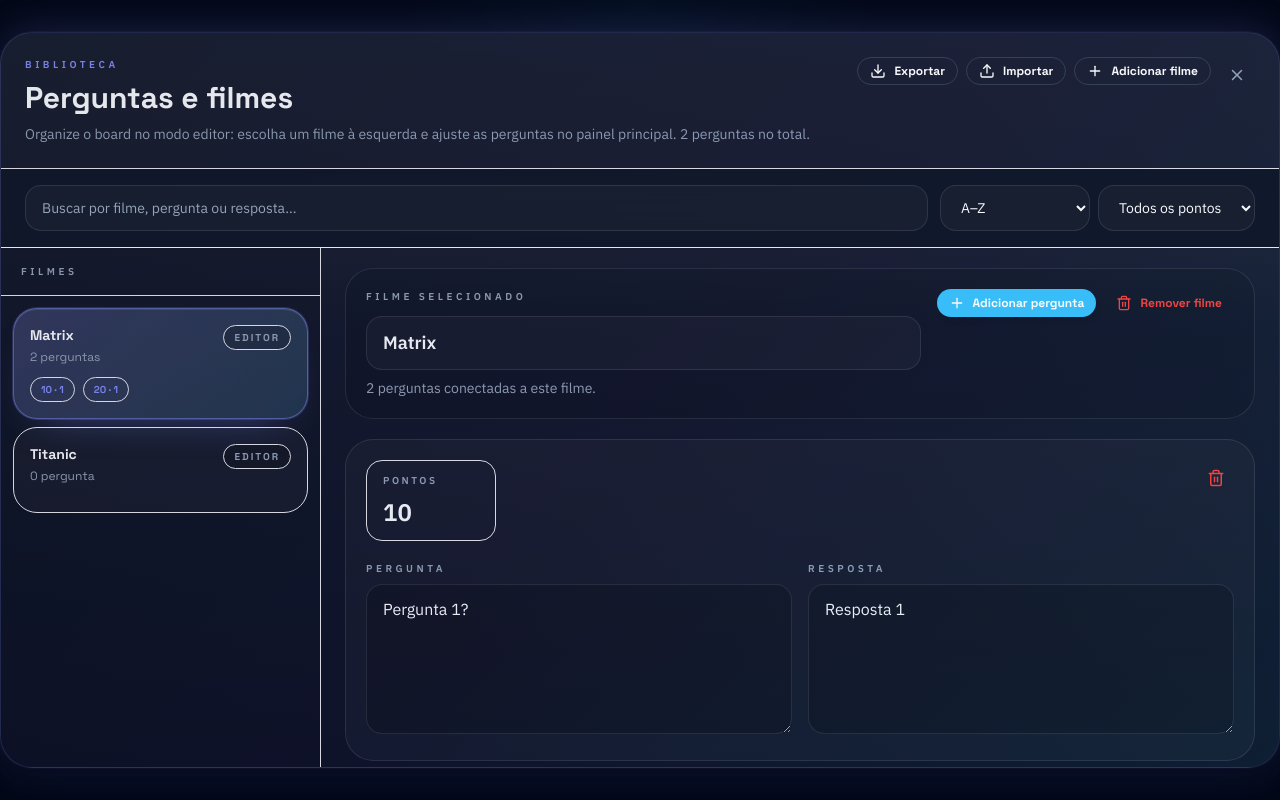
QuestionLibraryModal › Busca e Filtros › deve filtrar filmes por busca
The image size is (1280, 800).
In the field with placeholder "Buscar por filme, pergunta ou resposta…": (476, 208) [25,185,928,231], type "Matrix"
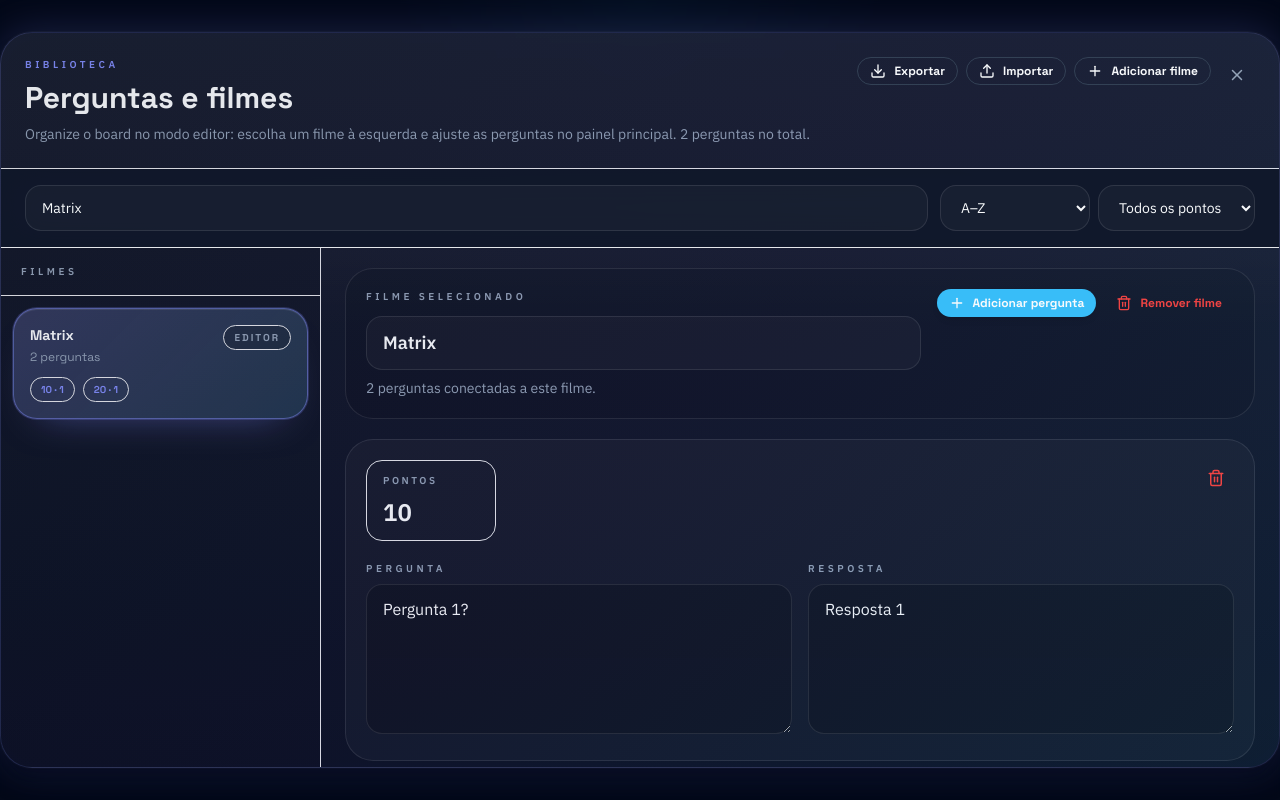
Expected: the text "Matrix" is shown, [30,326,74,344]
Now the button "Titanic" is gone
